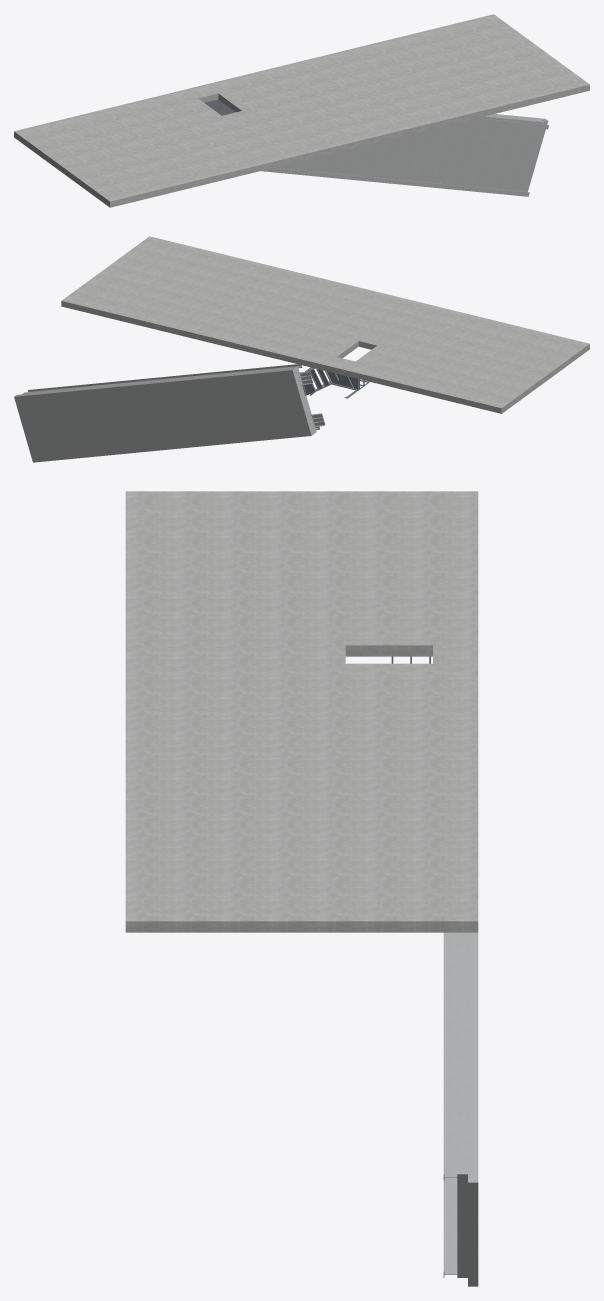
The model's file is escalera-bascula-mwstdiqv.glb.
The picture shows the model from 3 angles, top to bottom: view 1: azimuth 30°, elevation 25°; view 2: azimuth 150°, elevation 25°; view 3: azimuth 270°, elevation 25°; orthographic projection. The views are drawn at different scales.
Parts seen in each view (by area): view 1: edifi, bascula; view 2: edifi, bascula; view 3: edifi, bascula.
Boxes of the visible parts, x1,y1,x2,y2 form: edifi: (14, 14, 589, 207); bascula: (235, 112, 549, 196); edifi: (61, 236, 589, 413); bascula: (14, 364, 325, 462); edifi: (125, 491, 478, 932); bascula: (443, 932, 478, 1286).
Bounding box in the file's own units: 27.13 × 8.97 × 8.5.
Materials: 5 (5 with a texture image).
